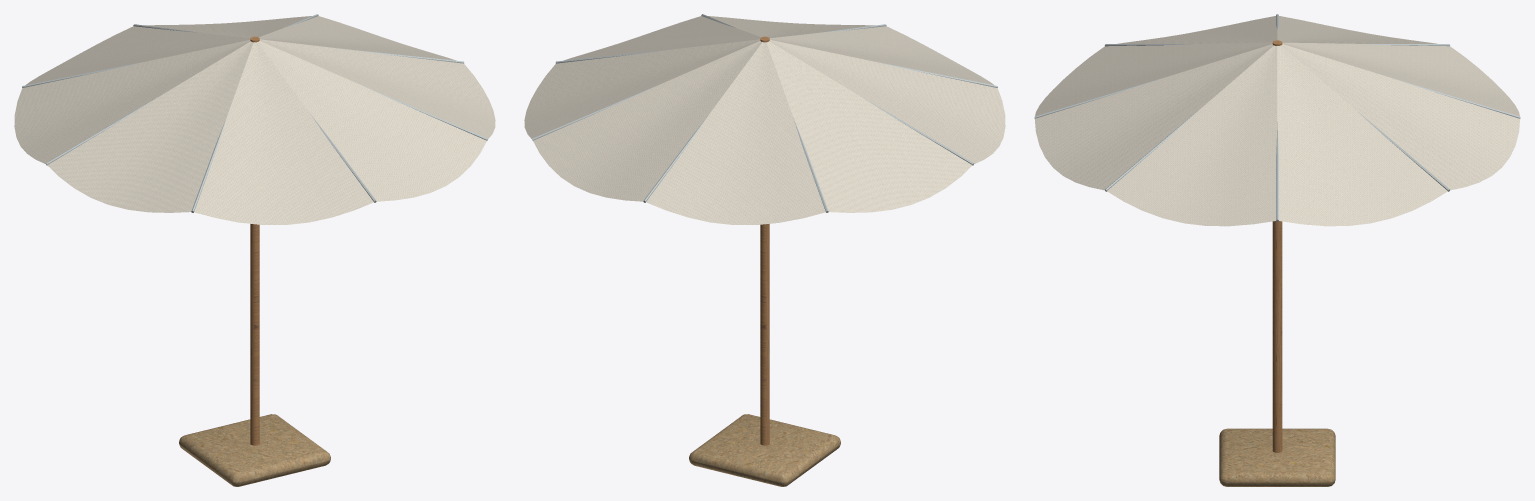
The model's file is sombrilla_jardin_exterior.glb.
The picture shows the model from 3 angles, left to right: view 1: azimuth 30°, elevation 25°; view 2: azimuth 150°, elevation 25°; view 3: azimuth 270°, elevation 25°; orthographic projection.
Parts seen in each view (by area): view 1: sombrilla_jardin_exterior; view 2: sombrilla_jardin_exterior; view 3: sombrilla_jardin_exterior.
Part boxes in pixels (x1,y1,x2,y2): sombrilla_jardin_exterior: [14, 14, 495, 486]; sombrilla_jardin_exterior: [524, 14, 1005, 486]; sombrilla_jardin_exterior: [1034, 14, 1520, 486].
Size of the model in its own units: 2.51 by 2.4 by 2.51.
4 materials, 3 textured.
